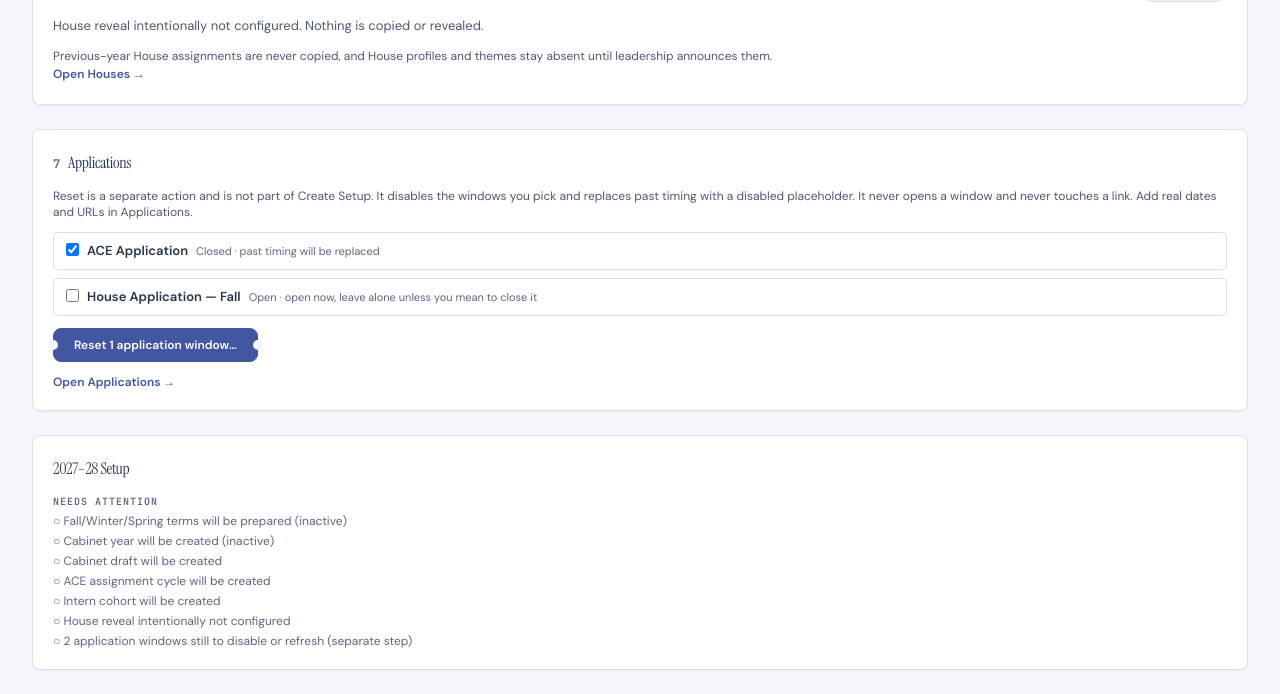
Test case: application reset › keeps Confirm disabled until the target year is typed
(page scrolled)
Click the button "Reset 1 application window…": (155, 345) [53,328,258,362]
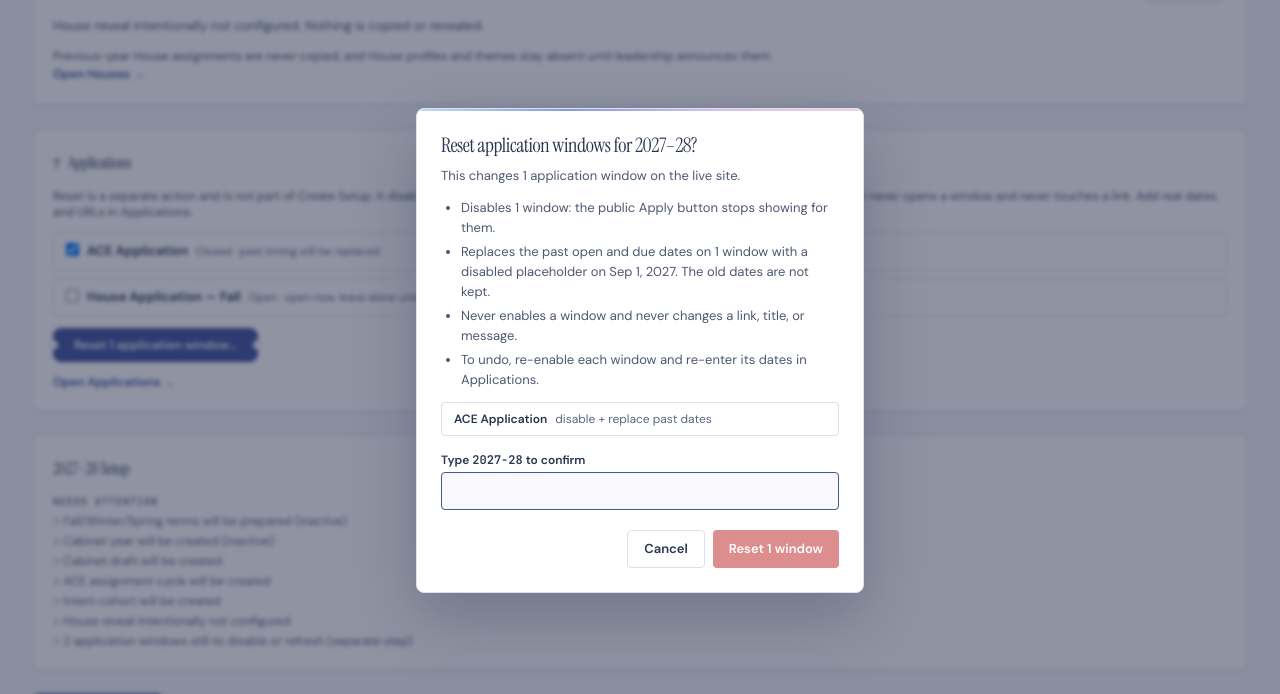
Check: the button "Reset 1 window" is disabled, box [713,530,839,568]
In the field labelled "Type 2027-28 to confirm": (640, 490) [441,472,839,510], type "2026-27"
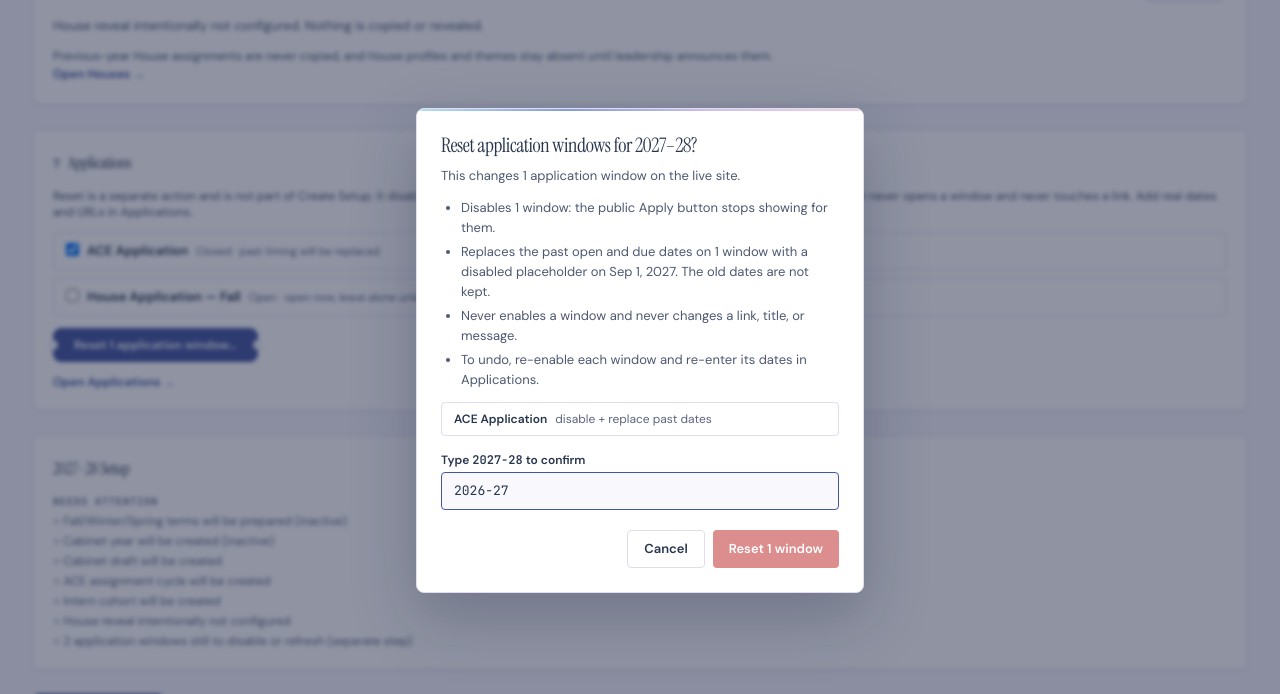
Check: the button "Reset 1 window" is disabled, box [713,530,839,568]
Replace the text in the field labelled "Type 2027-28 to confirm" with "2027-28": (640, 490) [441,472,839,510]
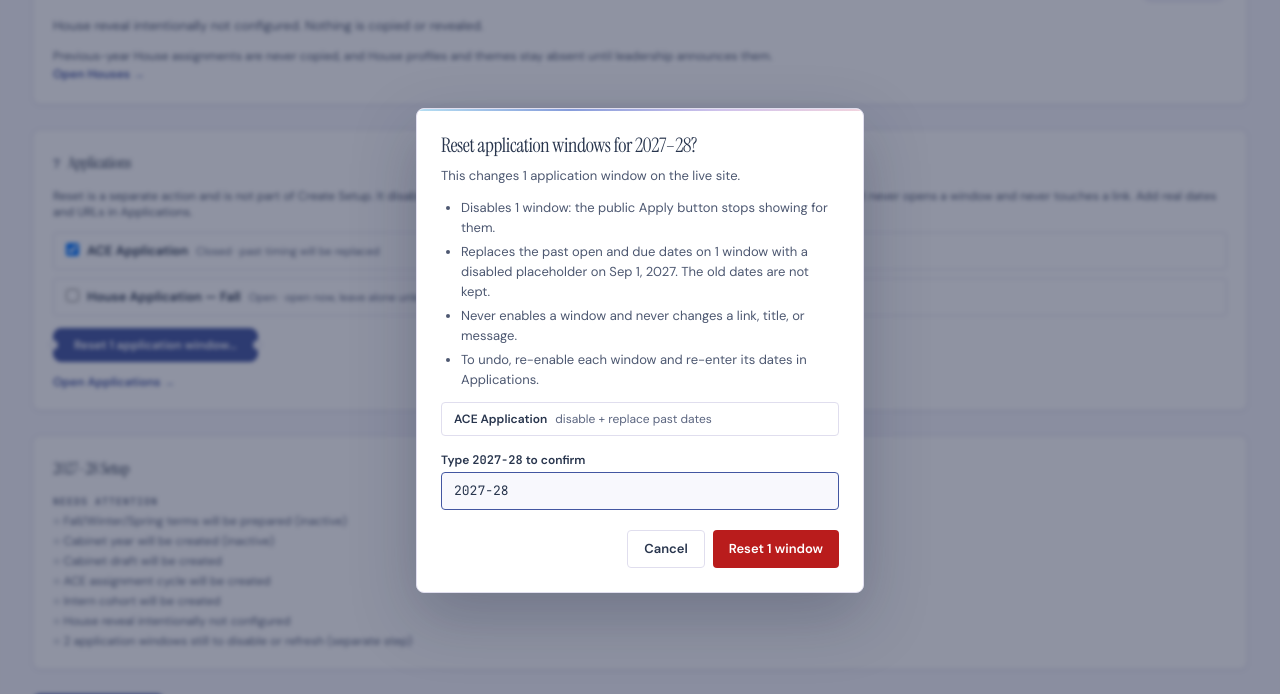
Check: the button "Reset 1 window" is enabled, box [713,530,839,568]
